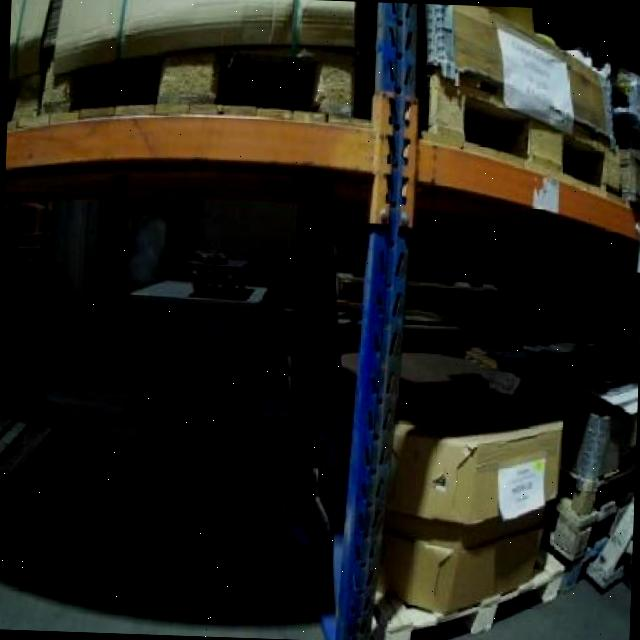pallet: (23, 38, 384, 139), (406, 52, 631, 209), (367, 543, 574, 640)
